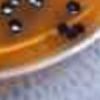black: (66, 0, 82, 17), (7, 18, 23, 34), (53, 20, 68, 34), (64, 27, 79, 41), (72, 21, 87, 35), (0, 4, 14, 17), (27, 0, 44, 10), (8, 0, 21, 7)
